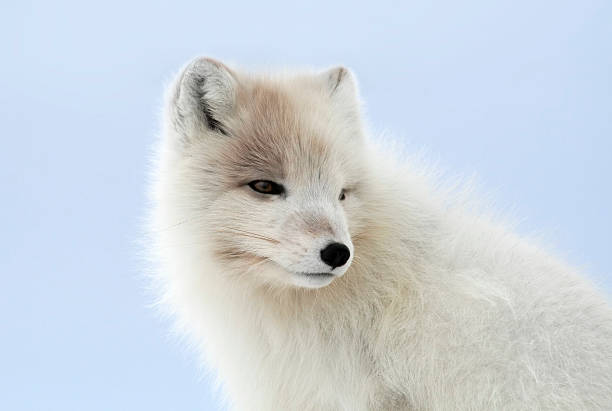arcticfox: (202, 109, 378, 310)
